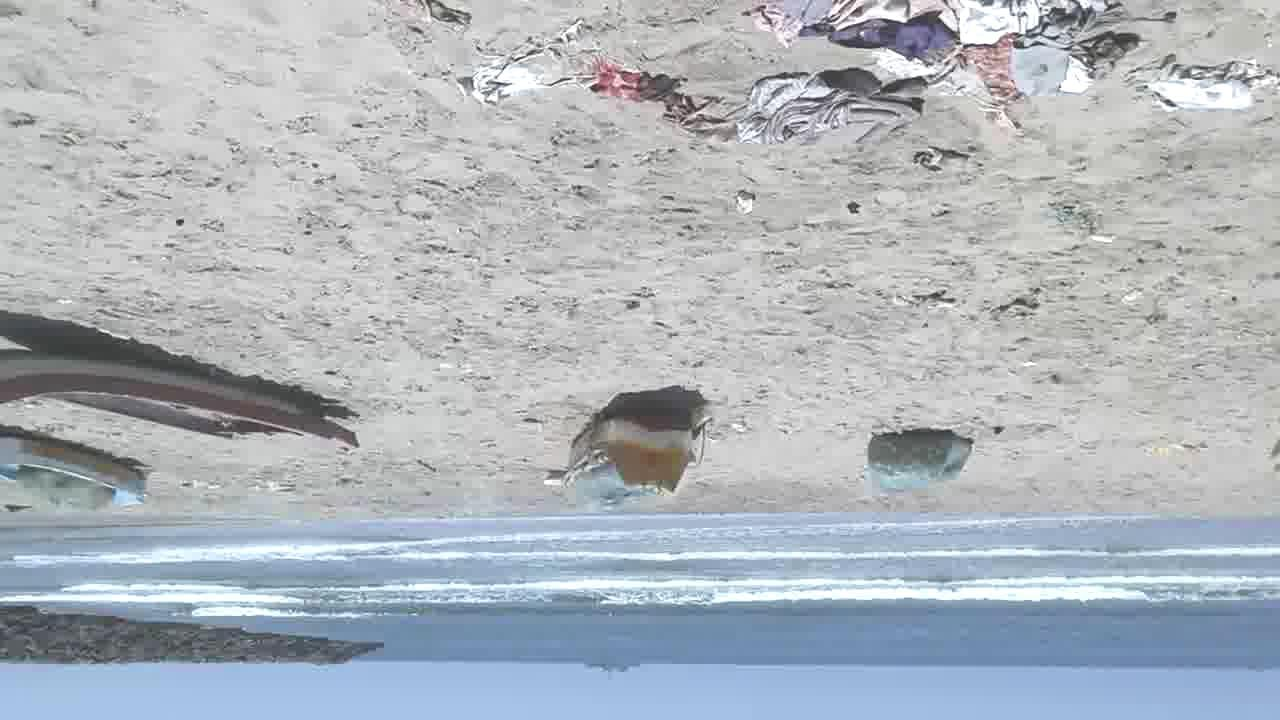large collection of objects: (1, 355, 360, 448), (1, 438, 145, 518), (559, 414, 697, 493)
obj: (463, 1, 1142, 158), (859, 426, 972, 486), (1143, 68, 1264, 114), (19, 470, 115, 517), (579, 471, 658, 516)
sand/background: (1, 514, 1279, 719)
